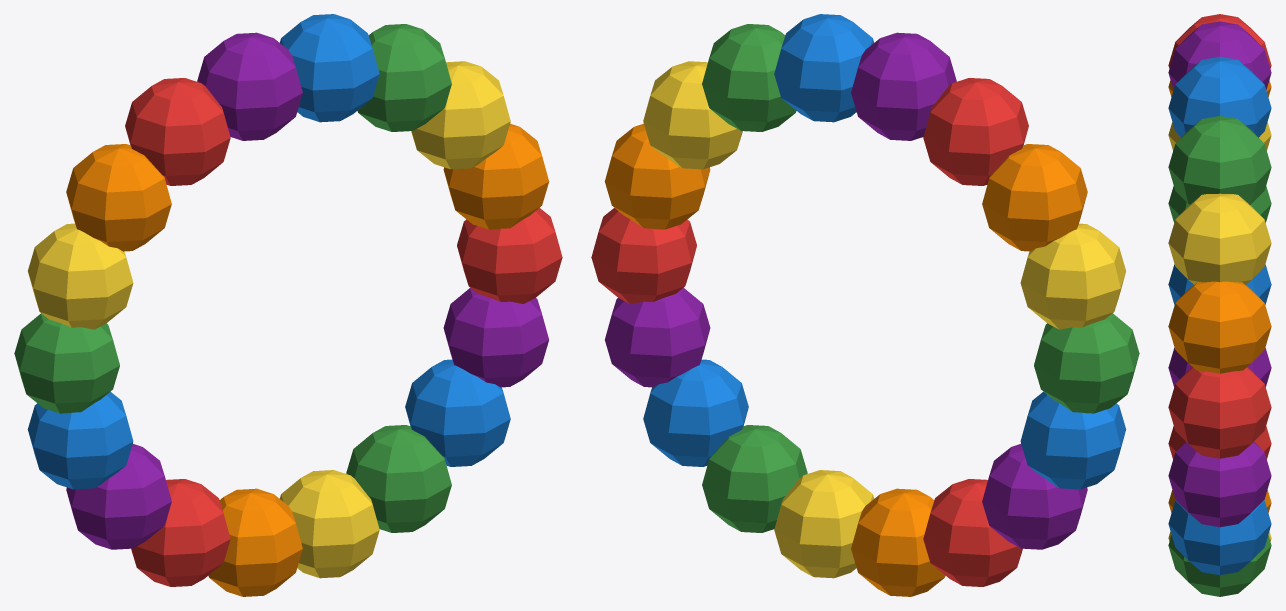
File: armband.glb
3 renders of one model, left to right at view 1: azimuth 30°, elevation 25°; view 2: azimuth 150°, elevation 25°; view 3: azimuth 270°, elevation 25°, orthographic. The views are drawn at different scales.
Parts seen in each view (by area): view 1: armband; view 2: armband; view 3: armband.
Part boxes in pixels (x1,y1,x2,y2): armband: (14,14,562,596); armband: (591,14,1139,596); armband: (1168,14,1271,596).
Size of the model in its own units: 0.34 by 0.3358 by 0.06.
